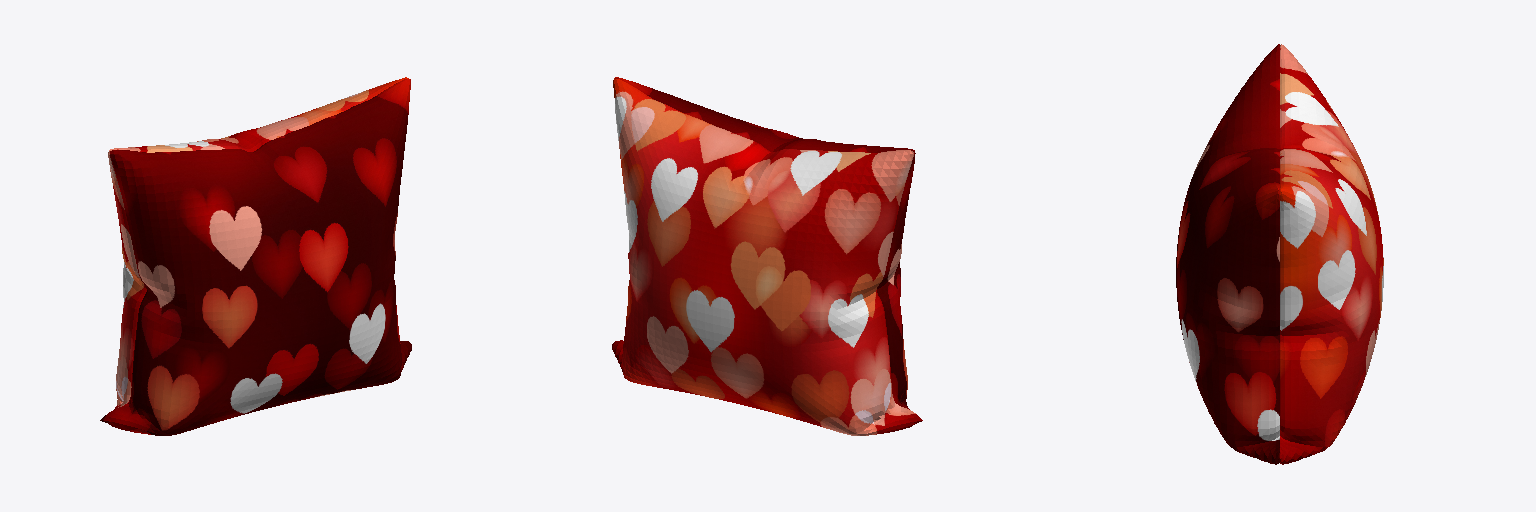
3 renders of one model, left to right at view 1: azimuth 30°, elevation 25°; view 2: azimuth 150°, elevation 25°; view 3: azimuth 270°, elevation 25°, orthographic.
Parts seen in each view (by area): view 1: Pillow_01.002_Плоскость.004; view 2: Pillow_01.002_Плоскость.004; view 3: Pillow_01.002_Плоскость.004.
Part boxes in pixels (x1,y1,x2,y2): Pillow_01.002_Плоскость.004: (100, 77, 411, 435); Pillow_01.002_Плоскость.004: (612, 77, 922, 435); Pillow_01.002_Плоскость.004: (1176, 44, 1383, 464).
Bounding box in the file's own units: 0.4645 × 0.4026 × 0.2683.
1 materials, 1 textured.